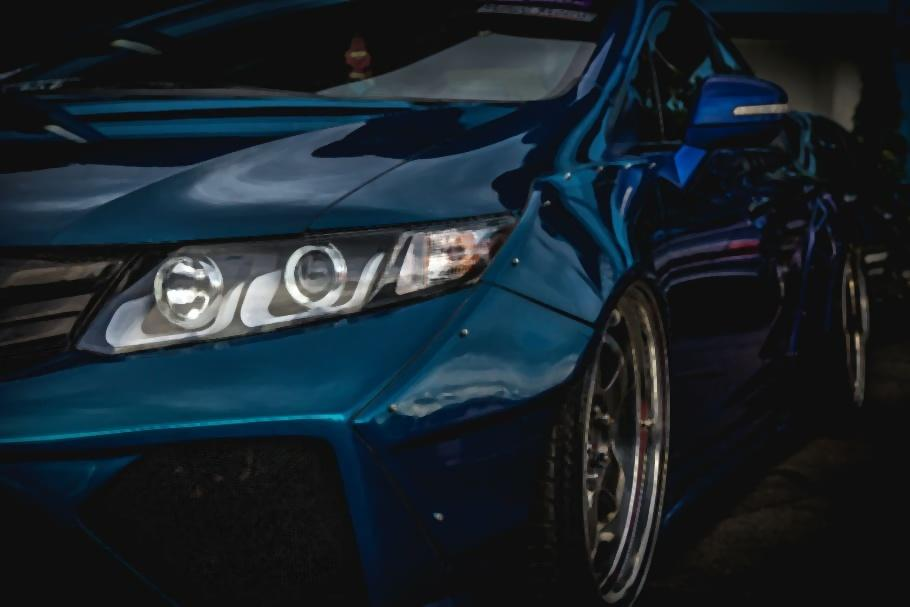Car hood: (0, 81, 544, 252)
Fender - -F-L-: (481, 80, 682, 529)
Front bumper: (0, 302, 623, 607)
Headlight - -L-: (64, 205, 528, 366)
Passenger-s door - -F-L-: (672, 10, 794, 507)
Side bumper - -L-: (654, 390, 851, 557)
Side mirror - -L-: (677, 57, 794, 167)
